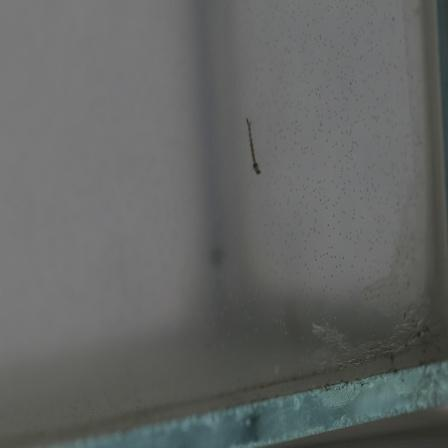Jentik-Nyamuk: (240, 118, 265, 178)
